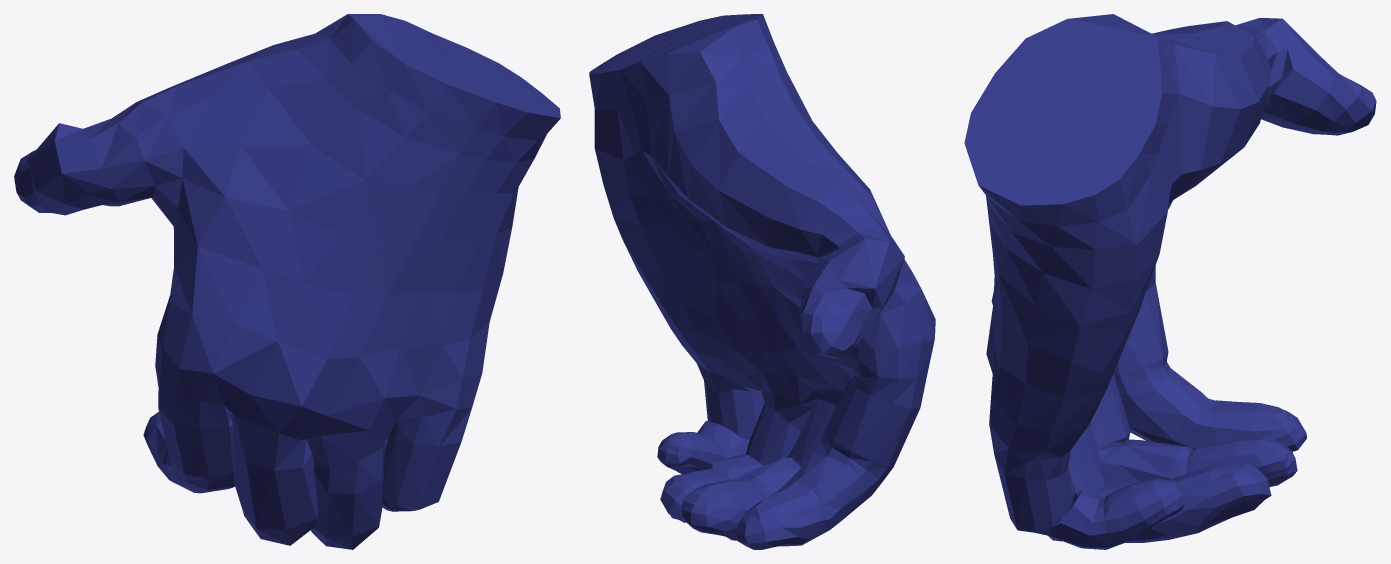
3 renders of one model, left to right at view 1: azimuth 30°, elevation 25°; view 2: azimuth 150°, elevation 25°; view 3: azimuth 270°, elevation 25°, orthographic. The views are drawn at different scales.
Size of the model in its own units: 0.1182 by 0.1419 by 0.0979.
